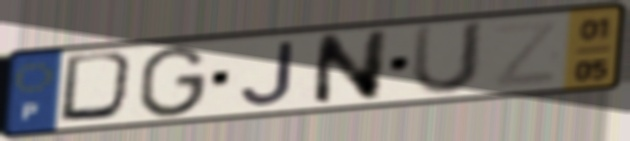D: (55, 49, 144, 125)
G: (134, 44, 211, 121)
J: (238, 39, 298, 108)
N: (309, 27, 392, 109)
U: (407, 18, 490, 99)
Z: (491, 16, 563, 90)
